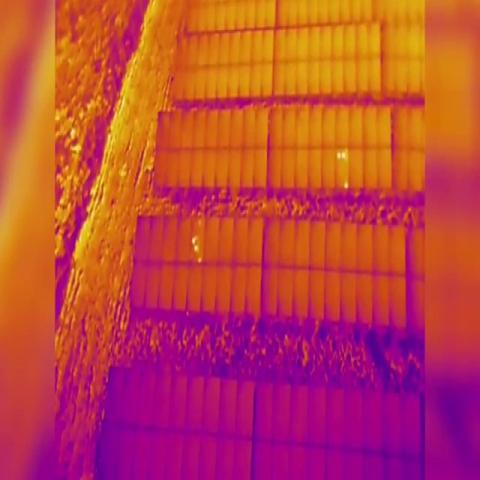fault: (335, 152, 341, 162), (343, 182, 349, 192), (342, 150, 346, 164), (191, 238, 198, 246), (198, 256, 202, 265), (194, 246, 198, 253)
